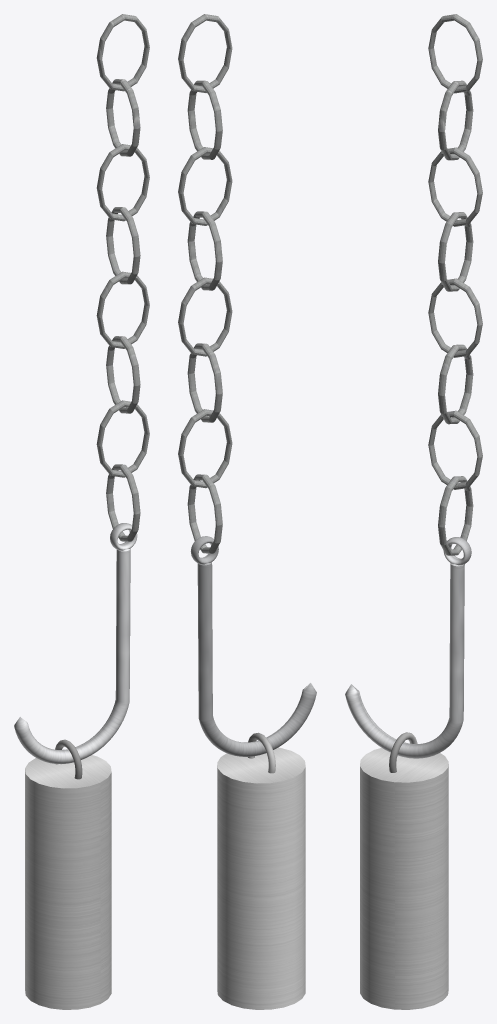
The model's file is Cuckoo4.obj.
3 views of the same model, side by side, from view 1: azimuth 30°, elevation 25°; view 2: azimuth 210°, elevation 25°; view 3: azimuth 330°, elevation 25° (orthographic). The views are drawn at different scales.
Parts seen in each view (by area): view 1: Cuckoo4; view 2: Cuckoo4; view 3: Cuckoo4.
Part boxes in pixels (left/top/right/bottom): Cuckoo4: left=14, top=14, right=149, bottom=1009; Cuckoo4: left=178, top=14, right=316, bottom=1009; Cuckoo4: left=345, top=14, right=482, bottom=1009.
Bounding box in the file's own units: 0.5212 × 3.61 × 0.2949.
